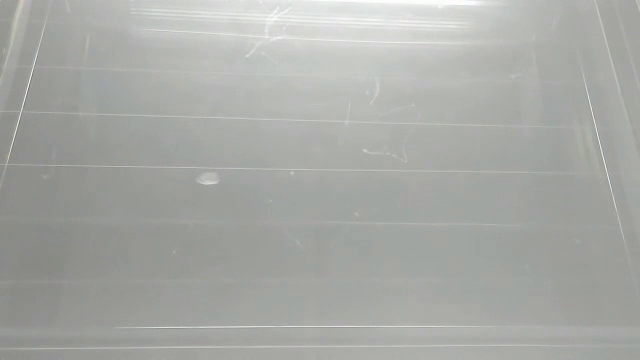alpha: (191, 168, 225, 190)
